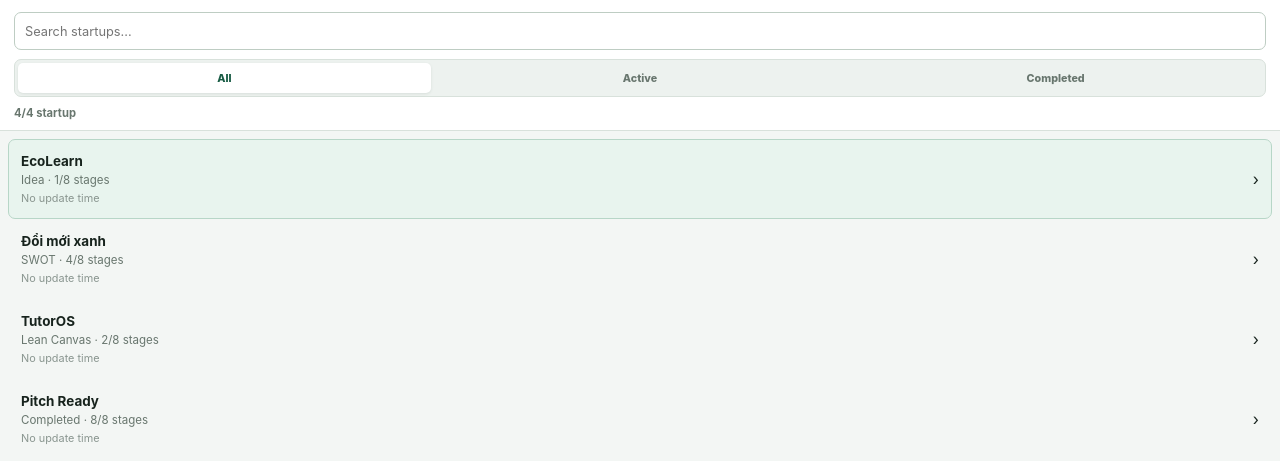
Test: StartupList › filters active and completed startups with a contextual empty state
Click the button "Completed".
click(1056, 78)  # box [849, 63, 1262, 93]
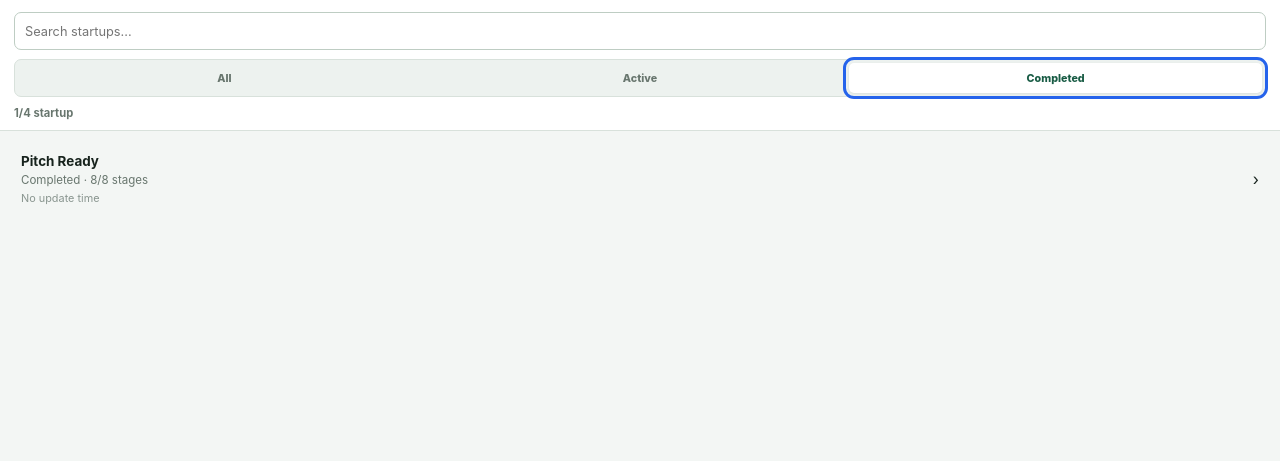
Expected: the text "Pitch Ready" is shown, [21, 153, 99, 169]
Expected: the text "1/4 startup" is shown, [14, 106, 73, 120]
Type "không tồn tại" into the search field labelled "Search startups".
click(640, 31); type("không tồn tại")  # box [14, 12, 1266, 50]
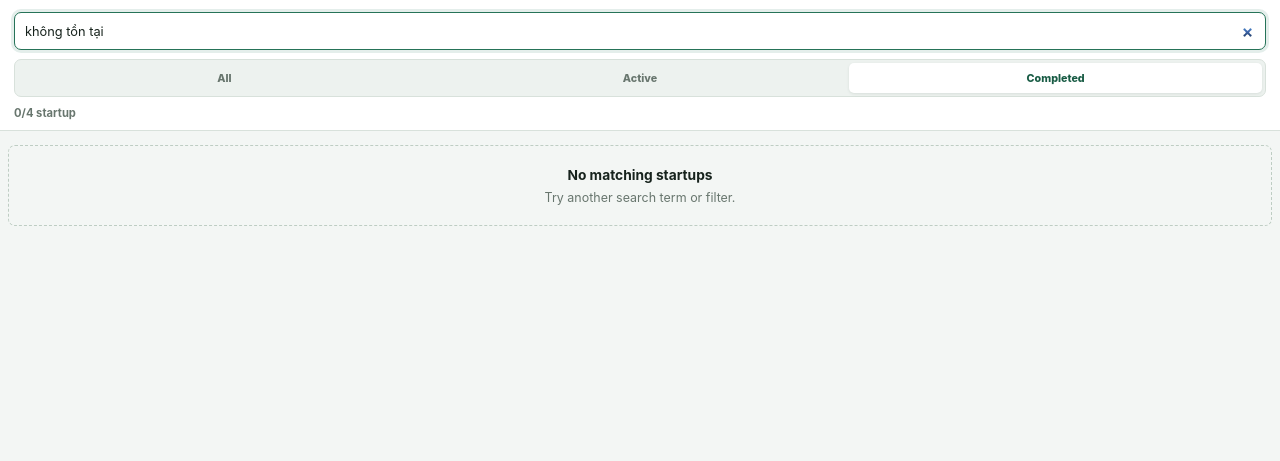
Expected: the text "No matching startups" is shown, [567, 167, 712, 183]
